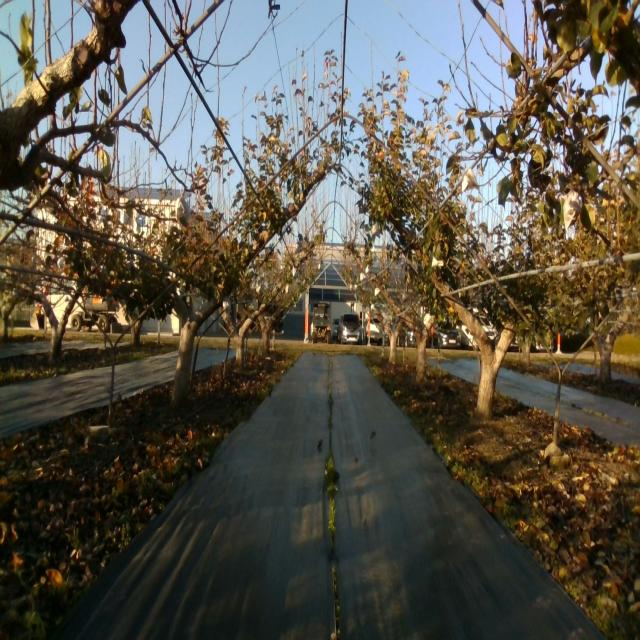pearbags: (562, 188, 582, 233), (462, 168, 481, 193), (176, 191, 188, 230)
